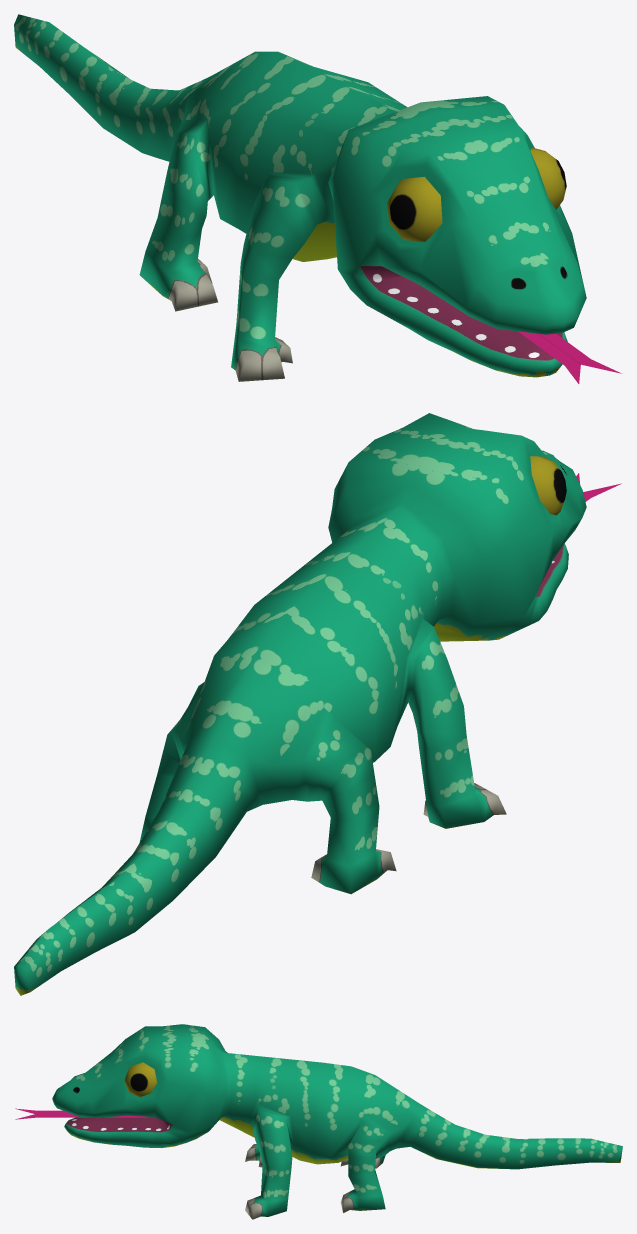
Rendered from lizard-sf.glb.
3 views of the same model, one above another, from view 1: azimuth 30°, elevation 25°; view 2: azimuth 150°, elevation 25°; view 3: azimuth 270°, elevation 25° (orthographic). The views are drawn at different scales.
Parts seen in each view (by area): view 1: lizardBody, lizardEye, lizardTongue; view 2: lizardBody, lizardEye; view 3: lizardBody, lizardEye, lizardTongue.
Part boxes in pixels (bbox=[...]): lizardBody: bbox=[14, 14, 586, 381]; lizardEye: bbox=[387, 147, 566, 241]; lizardTongue: bbox=[518, 331, 622, 383]; lizardBody: bbox=[14, 413, 586, 995]; lizardEye: bbox=[530, 456, 566, 515]; lizardBody: bbox=[52, 1024, 622, 1219]; lizardEye: bbox=[124, 1062, 156, 1097]; lizardTongue: bbox=[15, 1108, 147, 1119].
Bounding box in the file's own units: 5.31 × 5.4 × 20.
1 material, 1 textured.
